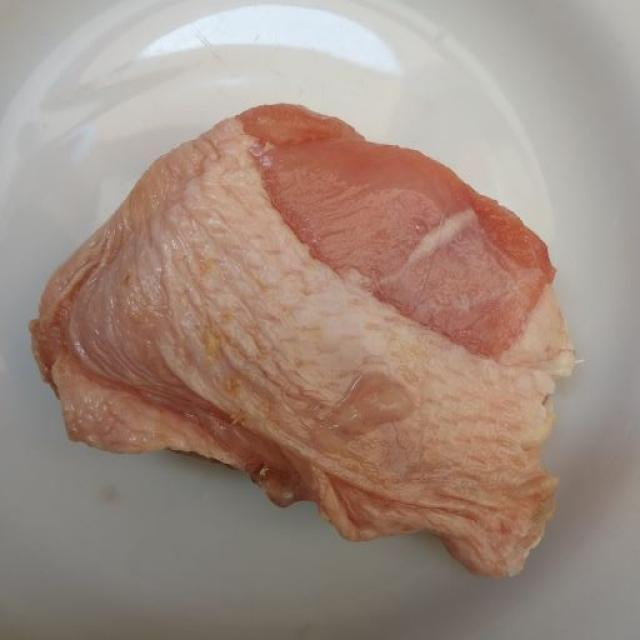chicken: (27, 100, 578, 579)
